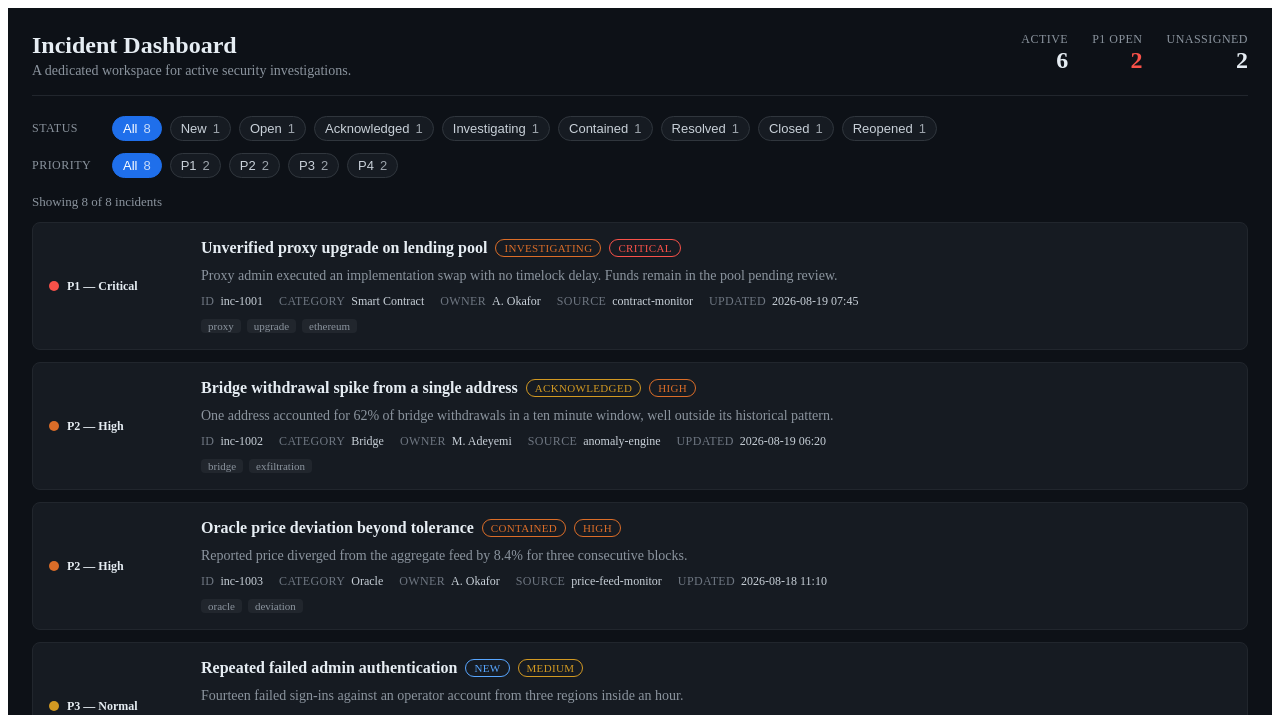
Test: IncidentDashboard › hides the clear control until a filter is applied
Expected: the button "clear filters" is not shown
What coordinates should you click on to do the following:
click the button "new 1"
I would click on:
 (200, 128)
Its box is [170,116,231,141].
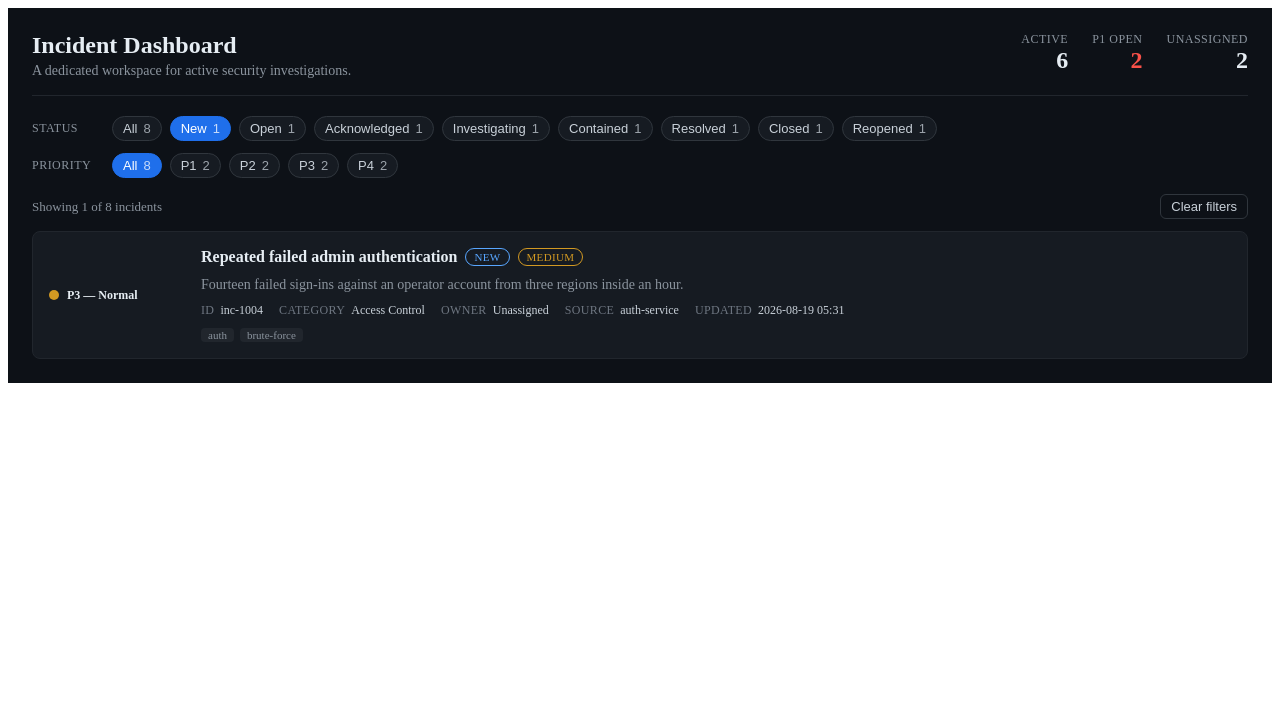
Now the button "Clear filters" is shown, box [1160,194,1248,219]
